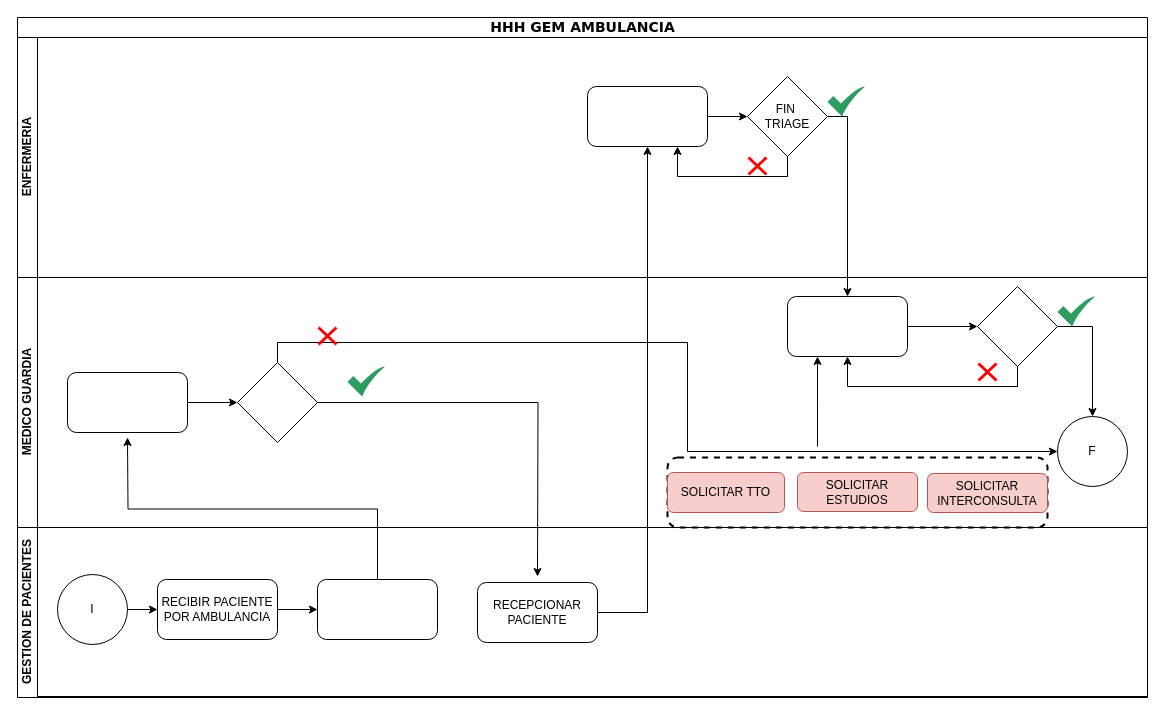
The diagram is 1165 pixels wide and 715 high, and some of its shapes have lost their labels. Here are the shapes that lost their labels. From the top down, the centre of each, then its label:
At point (647, 116): "REALIZAR TRIAGE".
At point (847, 326): "ATENDER PACIENTE".
At point (1017, 326): "FIN ATENCION".
At point (127, 402): "EVALUAR PACIENTE".
At point (277, 402): "ACEPTA".
At point (377, 609): "NOTIFICAR MÉDICO".
